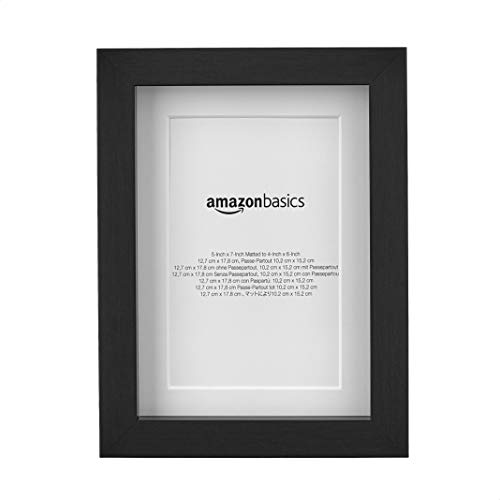amazonbasics: (207, 193, 304, 214)
